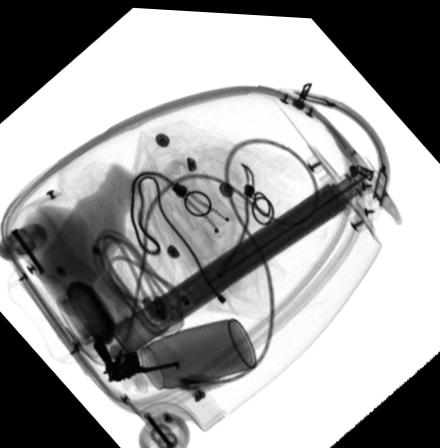Gun: (92, 337, 180, 380)
